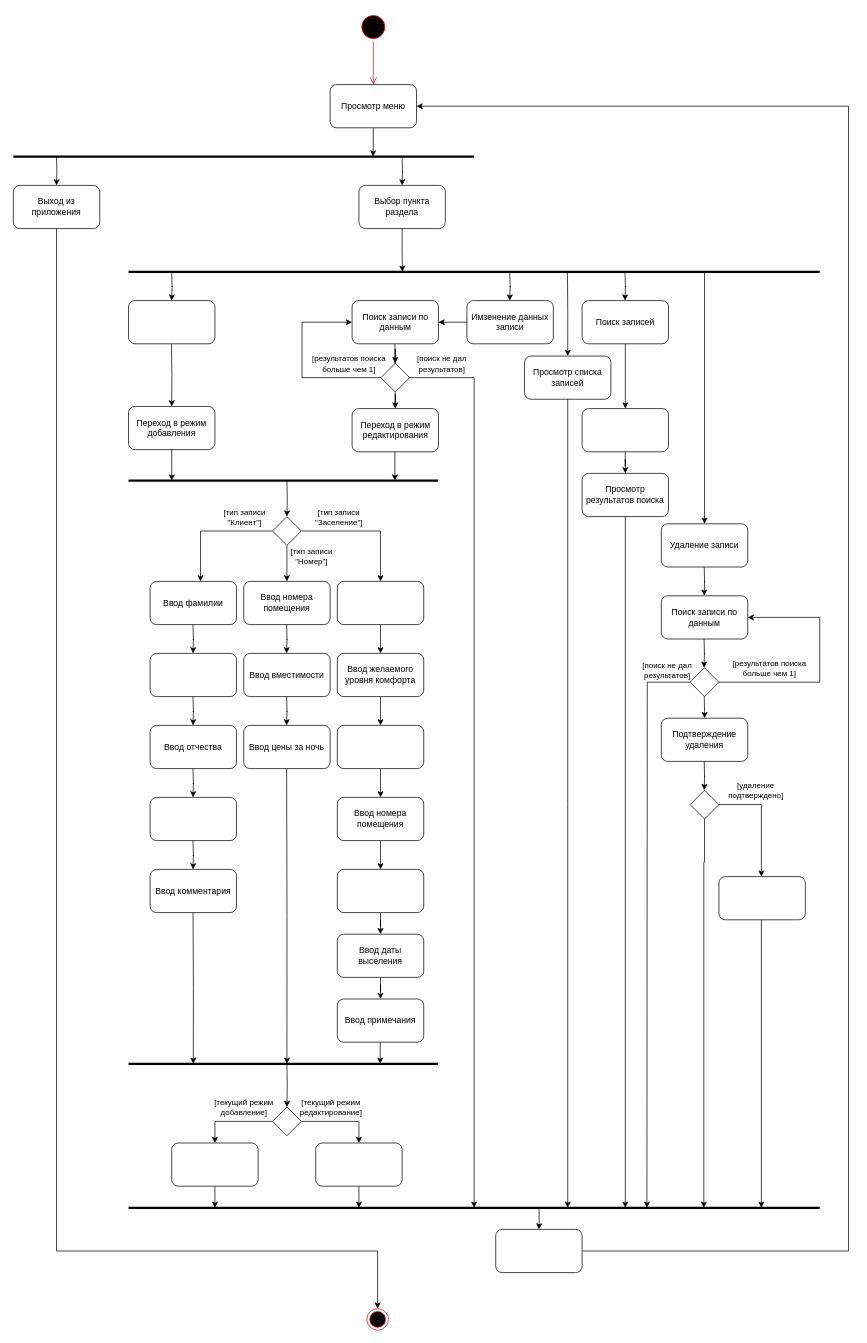
The diagram is 867 pixels wide and 1343 high, and some of its shapes have lost their labels. Each missing label, with the box of its shape:
Ввод даты заселения: (337, 869, 424, 913)
Ввод желаемой цены за ночь: (337, 581, 424, 625)
Ввод имени: (149, 653, 237, 697)
Ввод паспортных данных: (149, 797, 237, 841)
Ввод строки поиска: (581, 408, 669, 452)
Ввод ФИО клиента: (337, 725, 424, 769)
Добавить запись: (128, 300, 215, 344)
Добавление новой записи: (171, 1142, 258, 1186)
Назад в меню: (495, 1229, 582, 1273)
Обновление записи: (315, 1142, 402, 1186)
Удалить запись: (718, 876, 805, 920)
